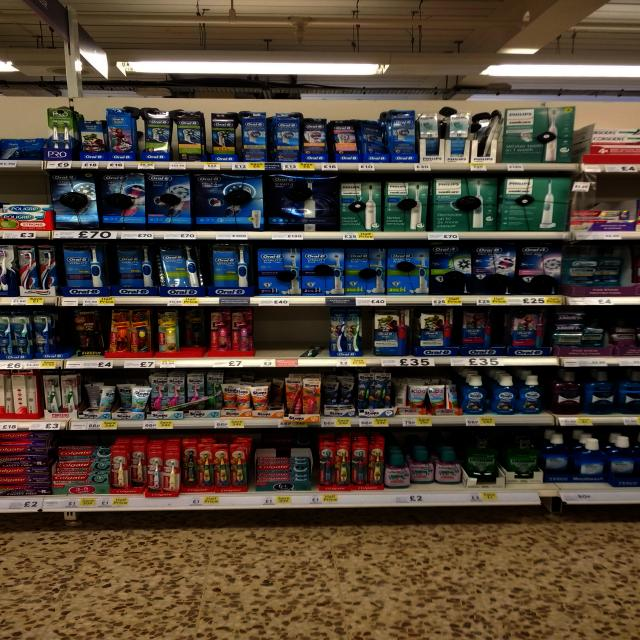empty_space: (257, 313, 325, 347)
